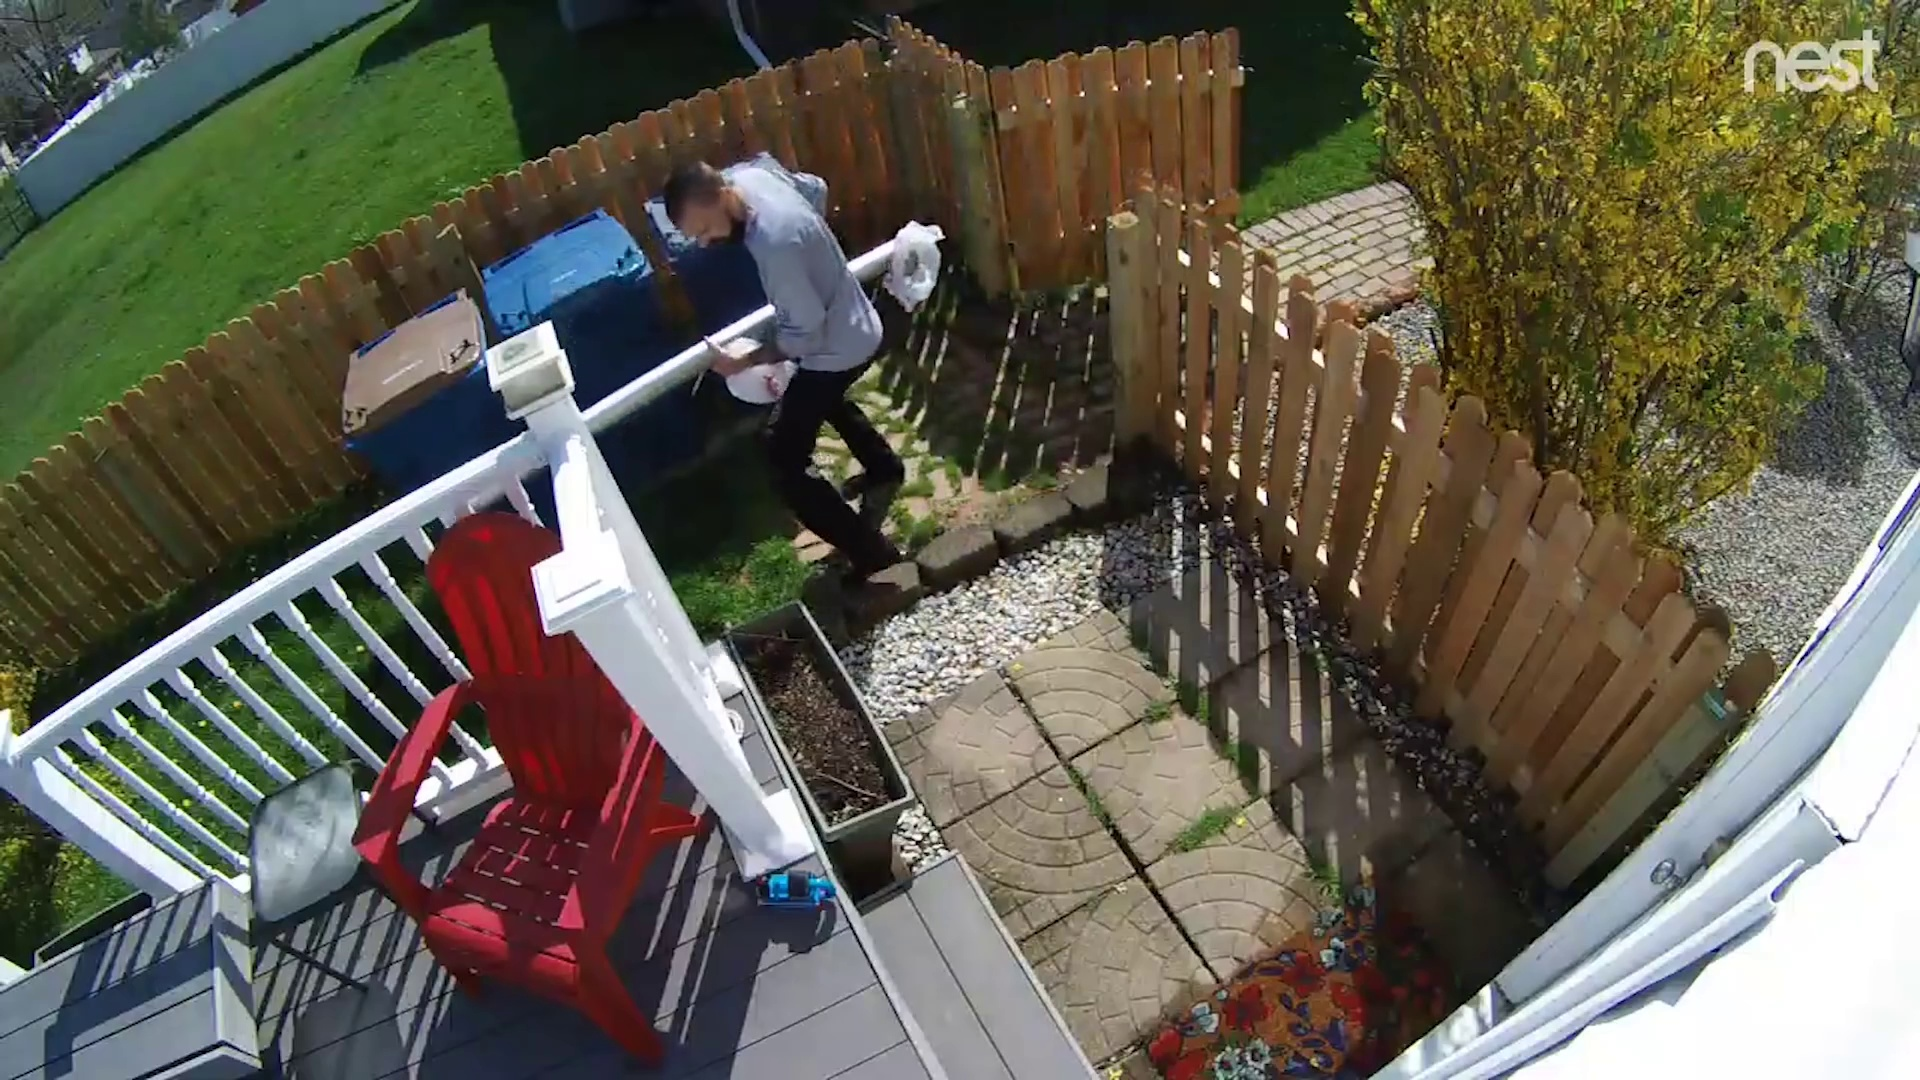face: (660, 188, 738, 254)
